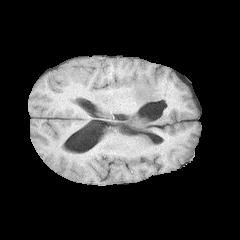glioma: (127, 78, 168, 131)
